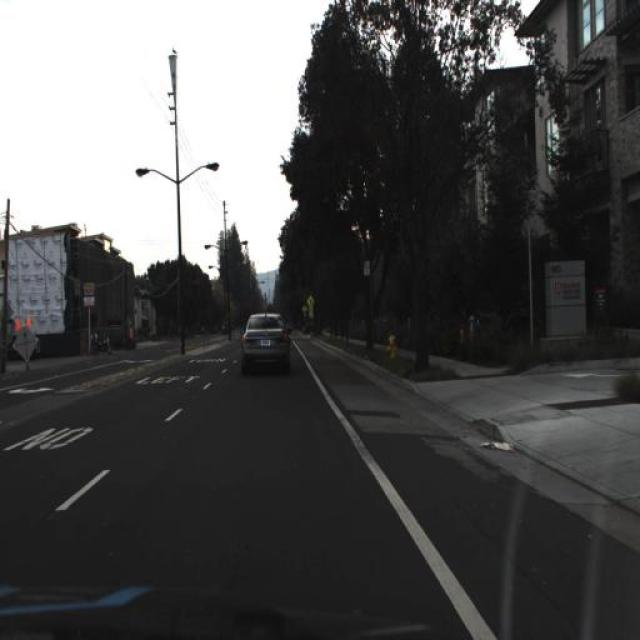car: (237, 309, 294, 380)
